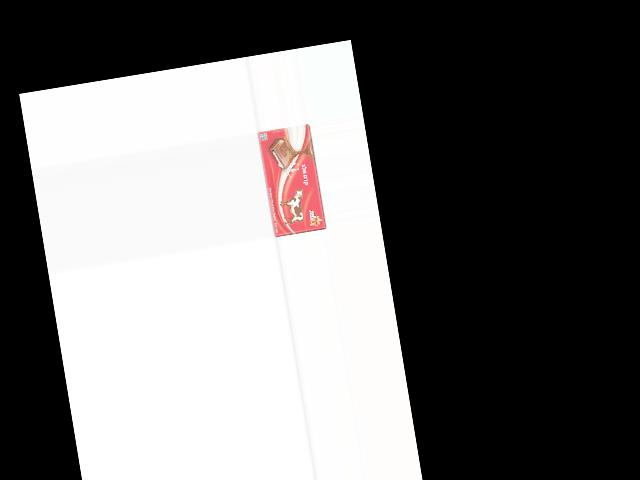chocolate: (256, 124, 326, 239)
